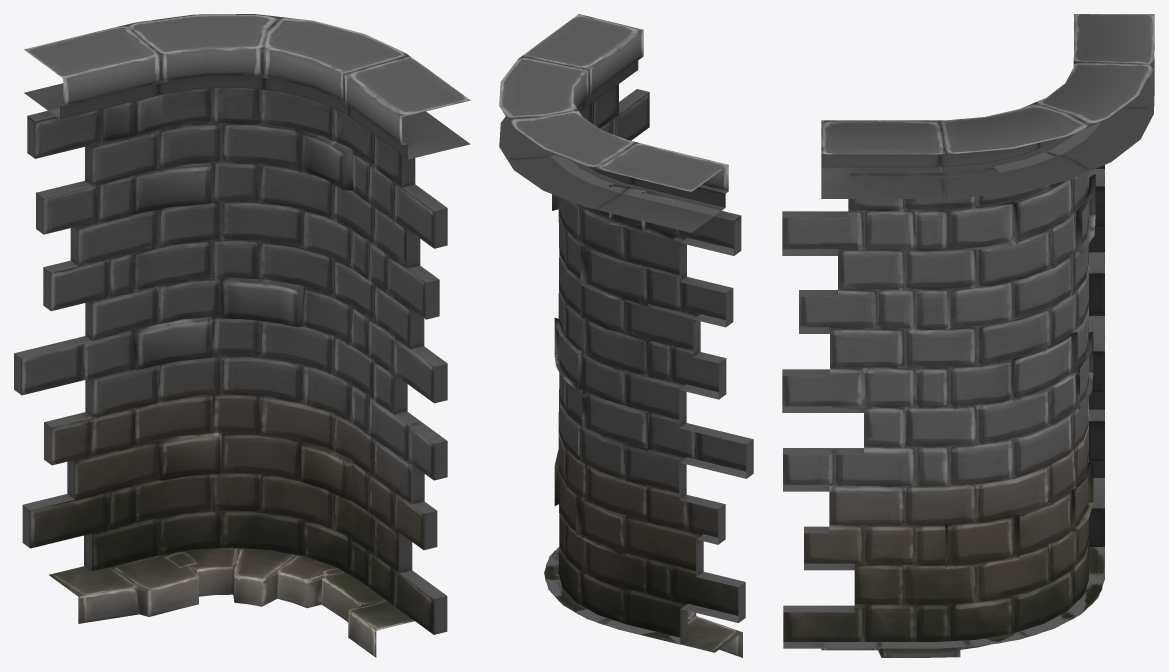
Rendered from BD_Wall_CornerSmall.fbx.
3 renders of one model, left to right at view 1: azimuth 30°, elevation 25°; view 2: azimuth 150°, elevation 25°; view 3: azimuth 270°, elevation 25°, orthographic. The views are drawn at different scales.
Parts seen in each view (by area): view 1: BD_Wall_Straight1; view 2: BD_Wall_Straight1; view 3: BD_Wall_Straight1.
Part boxes in pixels (x1=…): BD_Wall_Straight1: x1=14, y1=14, x2=470, y2=657; BD_Wall_Straight1: x1=499, y1=14, x2=753, y2=657; BD_Wall_Straight1: x1=782, y1=14, x2=1154, y2=657.
Bounding box in the file's own units: 3.19 × 5.13 × 3.19.
